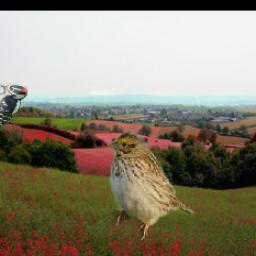Sparrow: (104, 130, 194, 241)
Woodpecker: (0, 84, 29, 140)
